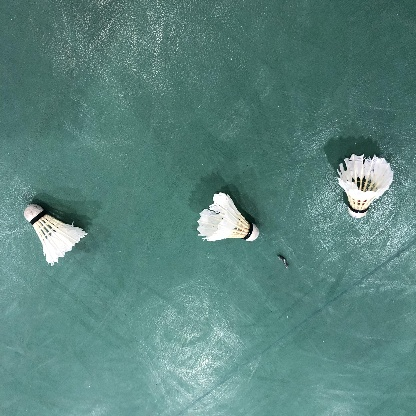ball_single: (24, 204, 87, 266), (337, 154, 393, 218), (197, 192, 259, 242)
